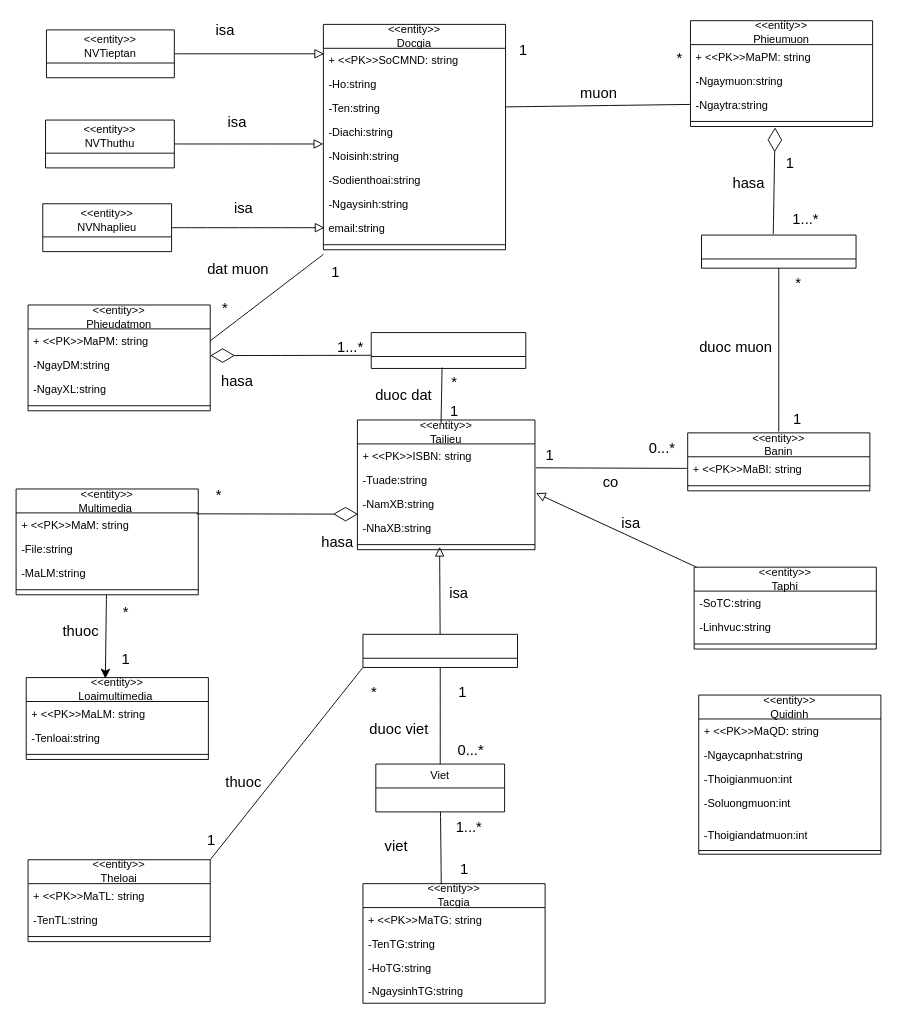
Some shapes in this 897 by 1029 pixel diagram are drawn without their labels. Here are the shapes that lost their labels. From the top down, the centre of each, then its label:
At point 778,251: "<<entity>> CTPhieumuon".
At point 448,350: "<<entity>> CTPhieudatmon".
At point 440,650: "<<entity>> Sach".
